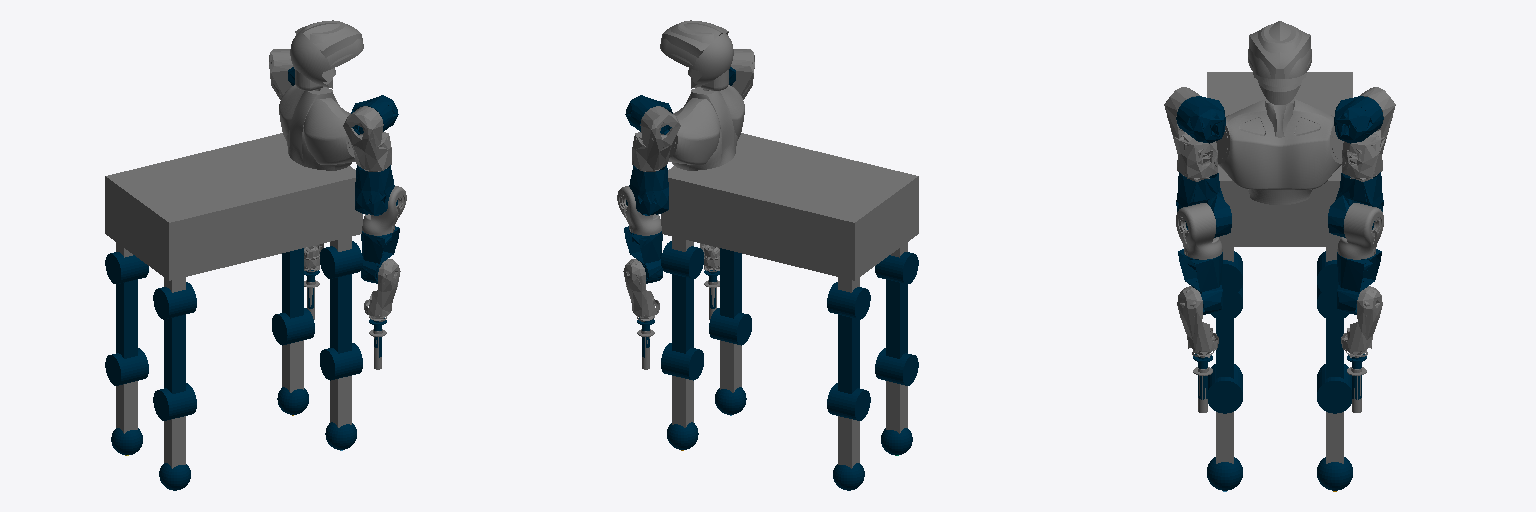
--- What the picture shows (computed from the rendered views, not written in the file) ---
Views: 3 orthographic renders of the robot side by side, from view 1: azimuth 30°, elevation 25°; view 2: azimuth 150°, elevation 25°; view 3: azimuth 270°, elevation 25°.
Model centauro with 36 links and 35 joints (27 revolute, 7 fixed, 1 floating), rooted at world, posed all joints at 0.
Links seen in each view (by area): view 1: pelvis, torso_2, knee_3, knee_4, knee_2, knee_1, hip2_3, hip2_2, hip2_4, arm2_2, arm2_3, hip2_1 (+5 smaller); view 2: pelvis, torso_2, knee_4, knee_3, knee_1, knee_2, hip2_4, hip2_1, hip2_3, arm1_2, arm1_3, hip2_2 (+5 smaller); view 3: torso_2, pelvis, knee_1, knee_2, arm1_2, arm2_2, hip2_1, hip2_2, arm1_4, arm2_4, arm1_1, arm2_1 (+6 smaller).
Link boxes in pixels (x1,y1,x2,y2): pelvis: [105, 133, 362, 280]; torso_2: [279, 20, 363, 170]; knee_3: [153, 383, 196, 490]; knee_4: [105, 348, 148, 454]; knee_2: [320, 343, 362, 449]; knee_1: [272, 308, 314, 414]; hip2_3: [153, 282, 196, 393]; hip2_2: [320, 241, 362, 353]; hip2_4: [105, 252, 148, 358]; arm2_2: [343, 106, 391, 171]; arm2_3: [355, 165, 397, 215]; hip2_1: [282, 248, 303, 318]; pelvis: [661, 133, 918, 280]; torso_2: [660, 20, 744, 170]; knee_4: [827, 383, 870, 490]; knee_3: [875, 348, 918, 454]; knee_1: [661, 343, 703, 449]; knee_2: [709, 308, 751, 414]; hip2_4: [827, 282, 870, 393]; hip2_1: [661, 241, 703, 353]; hip2_3: [875, 252, 918, 358]; arm1_2: [632, 106, 680, 171]; arm1_3: [626, 165, 668, 215]; hip2_2: [720, 248, 741, 318]; torso_2: [1216, 21, 1343, 204]; pelvis: [1207, 72, 1352, 246]; knee_1: [1317, 367, 1352, 490]; knee_2: [1207, 367, 1242, 490]; arm1_2: [1342, 87, 1395, 181]; arm2_2: [1164, 87, 1217, 181]; hip2_1: [1317, 251, 1343, 378]; hip2_2: [1216, 251, 1242, 378]; arm1_4: [1337, 203, 1383, 259]; arm2_4: [1176, 203, 1222, 259]; arm1_1: [1334, 96, 1383, 143]; arm2_1: [1176, 96, 1225, 143].
Size in the robot's own frame: 0.8353 by 0.6319 by 1.4 metres.
17 mesh visuals loaded from 9 distinct referenced files (9 binary STL).

robot.urdf — centauro:
<?xml version="1.0" ?>
<!-- =================================================================================== -->
<!-- |    This document was autogenerated by xacro from centauro.urdf.xacro            | -->
<!-- |    EDITING THIS FILE BY HAND IS NOT RECOMMENDED                                 | -->
<!-- =================================================================================== -->
<robot name="centauro" xmlns:xacro="http://www.ros.org/wiki/xacro">
  <!-- /constants -->
  <!-- Here all arguments from launch file are evaluated to the final xacro poropeties.
     Also all the parameter dependencies are resolved-->
  <material name="grey">
    <color rgba="0.5 0.5 0.5 1"/>
  </material>
  <material name="dark_grey">
    <color rgba="0.3 0.3 0.3 1"/>
  </material>
  <material name="blue">
    <color rgba="0.0 0.2 0.3 1"/>
  </material>
  <material name="red">
    <color rgba="0.5 0.1 0.2 1"/>
  </material>
  <material name="black">
    <color rgba="0.0 0.0 0.0 1"/>
  </material>
  <!-- Here all arguments from launch file are evaluated to the final xacro poropeties.
     Also all the parameter dependencies are resolved-->
  <!-- load proper collision model -->
  <!-- load proper collision model -->
  <!-- Here all arguments from launch file are evaluated to the final xacro poropeties.
     Also all the parameter dependencies are resolved-->
  <!-- load proper collision model -->
  <!-- load proper collision model -->
  <!-- /macro legs -->
  <!-- /macro arms -->
  <!-- /other files -->
  <!-- reference -->
  <link name="world"/>
  <link name="pelvis">
    <inertial>
      <origin xyz="-0.0704 0.0 -0.0416"/>
      <mass value="25.0"/>
      <inertia ixx="0.242311" ixy="0.0" ixz="0.0" iyy="1.338707" iyz="0.0" izz="1.369479"/>
    </inertial>
    <visual>
      <origin rpy="0.0 0.0 0.0" xyz="0 0 0"/>
      <geometry>
        <box size="0.70 0.40 0.20"/>
      </geometry>
      <material name="grey"/>
    </visual>
    <collision>
      <origin rpy="0.0 0.0 0.0" xyz="0 0 0"/>
      <geometry>
        <box size="0.70 0.40 0.20"/>
      </geometry>
      <material name="grey"/>
    </collision>
  </link>
  <joint name="reference" type="floating">
    <origin xyz="0.0 0.0 0.85"/>
    <parent link="world"/>
    <child link="pelvis"/>
  </joint>
  <!-- /reference  -->
  <!-- torso links -->
  <link name="torso_2">
    <inertial>
      <origin xyz="0.0047281261 0.00038307386 0.14972892"/>
      <mass value="4.5494226"/>
      <!-- mass  7: torso_1 (2) + torso_2 (5), head un_modelled -->
      <inertia ixx="0.063643392" ixy="8.939e-05" ixz="-0.00086873" iyy="0.02680235" iyz="-4.657e-05" izz="0.04743015"/>
    </inertial>
    <visual>
      <origin rpy="0.0 0.0 0.0" xyz="0.0 0 0.0"/>
      <geometry>
        <mesh filename="./centauro_urdf/meshes/link1.stl" scale="0.001 0.001 0.001"/>
      </geometry>
      <material name="grey"/>
    </visual>
    <collision>
      <origin rpy="0.0 0.0 0.0" xyz="0.0 0 0.0"/>
      <geometry>
        <mesh filename="./centauro_urdf/meshes/link1.stl" scale="0.001 0.001 0.001"/>
      </geometry>
      <material name="grey"/>
    </collision>
  </link>
  <link name="imu_link">
    <inertial>
      <mass value="0.0"/>
      <!-- mass  7: torso_1 (2) + torso_2 (5), head un_modelled -->
      <inertia ixx="0.0" ixy="0.0" ixz="0.0" iyy="0.0" iyz="0.0" izz="0.0"/>
    </inertial>
  </link>
  <!-- /torso links -->
  <!-- torso joints -->
  <joint name="torso_yaw" type="revolute">
    <parent link="pelvis"/>
    <origin xyz="0.3 0.0 0.1"/>
    <child link="torso_2"/>
    <axis xyz="0 0 1"/>
    <limit effort="147" lower="-2.618" upper="2.618" velocity="5.7"/>
    <!-- TODO -->
  </joint>
  <joint name="imu_joint" type="fixed">
    <parent link="pelvis"/>
    <origin xyz="-0.0704 0.0 -0.0416"/>
    <child link="imu_link"/>
  </joint>
  <!-- /torso joints -->
  <transmission name="t_torso_yaw">
    <type> transmission_interface/SimpleTransmission</type>
    <joint name="torso_yaw">
      <hardwareInterface>EffortJointInterface</hardwareInterface>
    </joint>
    <actuator name="motor_torso_yaw">
      <hardwareInterface>EffortJointInterface</hardwareInterface>
      <machanicalReduction>1</machanicalReduction>
    </actuator>
    <robotNamespace>/centauro</robotNamespace>
  </transmission>
  <!-- /torso actuators -->
  <!-- /torso -->
  <!-- LINKS -->
  <!-- shoulder yaw-roll-->
  <link name="arm1_1">
    <inertial>
      <origin xyz="-0.0031005886 0.040324584 0.007451937"/>
      <mass value="1.5583338"/>
      <inertia ixx="0.0032318636" ixy="4.24587e-05" ixz="4.91626e-05" iyy="0.00275718" iyz="-0.0002387056" izz="0.004275047"/>
    </inertial>
    <visual>
      <origin rpy="0.0 0.0 0.0" xyz="0.0 0.0 0.0"/>
      <geometry>
        <mesh filename="./centauro_urdf/meshes/link2.stl" scale="0.001 -0.001 0.001"/>
      </geometry>
      <material name="blue"/>
    </visual>
    <collision>
      <origin rpy="0.0 0.0 0.0" xyz="0.0 0.0 0.0"/>
      <geometry>
        <mesh filename="./centauro_urdf/meshes/link2.stl" scale="0.001 -0.001 0.001"/>
      </geometry>
      <material name="blue"/>
    </collision>
  </link>
  <!-- shoulder yaw-roll-->
  <!-- shoulder roll-pitch-->
  <link name="arm1_2">
    <inertial>
      <origin xyz="0.05105435 0.00011109 -0.07643596"/>
      <mass value="1.515061"/>
      <inertia ixx="0.01029558" ixy="2.846e-05" ixz="0.0036567" iyy="0.01178018" iyz="2.088e-05" izz="0.00386123"/>
    </inertial>
    <visual>
      <origin rpy="0.0 0.0 0.0" xyz="0.0 0.0 0.0"/>
      <geometry>
        <mesh filename="./centauro_urdf/meshes/link3.stl" scale="0.001 -0.001 0.001"/>
      </geometry>
      <material name="grey"/>
    </visual>
    <collision>
      <origin rpy="0.0 0.0 0.0" xyz="0.0 0.0 0.0"/>
      <geometry>
        <mesh filename="./centauro_urdf/meshes/link3.stl" scale="0.001 -0.001 0.001"/>
      </geometry>
      <material name="grey"/>
    </collision>
  </link>
  <!-- shoulder roll-pitch-->
  <!-- shoulder-elbow -->
  <link name="arm1_3">
    <inertial>
      <origin xyz="0.01207624 0.00322013 -0.03427312"/>
      <mass value="1.5088101"/>
      <inertia ixx="0.00469819" ixy="-0.00026547" ixz="0.00077706" iyy="0.00501755" iyz="0.00029679" izz="0.00310954"/>
    </inertial>
    <visual>
      <origin rpy="0.0 0.0 0.0" xyz="0.0 0.0 0.0"/>
      <geometry>
        <mesh filename="./centauro_urdf/meshes/link4.stl" scale="0.001 -0.001 0.001"/>
      </geometry>
      <material name="blue"/>
    </visual>
    <collision>
      <origin rpy="0.0 0.0 0.0" xyz="0.0 0.0 0.0"/>
      <geometry>
        <mesh filename="./centauro_urdf/meshes/link4.stl" scale="0.001 -0.001 0.001"/>
      </geometry>
      <material name="blue"/>
    </collision>
  </link>
  <!-- /shoulder-elbow -->
  <!-- elbow yaw-pitch -->
  <link name="arm1_4">
    <inertial>
      <origin xyz="0.010147552 -0.029928537 -0.032528288"/>
      <mass value="0.96297329"/>
      <inertia ixx="0.0026493567" ixy="5.1632e-06" ixz="0.0001292309" iyy="0.0023470955" iyz="-0.0007895755" izz="0.0012213063"/>
    </inertial>
    <visual>
      <origin rpy="0.0 0.0 0.0" xyz="0.0 0.0 0.0"/>
      <geometry>
        <mesh filename="./centauro_urdf/meshes/link5.stl" scale="0.001 -0.001 0.001"/>
      </geometry>
      <material name="grey"/>
    </visual>
    <collision>
      <origin rpy="0.0 0.0 0.0" xyz="0.0 0.0 0.0"/>
      <geometry>
        <mesh filename="./centauro_urdf/meshes/link5.stl" scale="0.001 -0.001 0.001"/>
      </geometry>
      <material name="grey"/>
    </collision>
  </link>
  <!-- /elbow yaw-pitch -->
  <!-- elbow-wrist -->
  <link name="arm1_5">
    <inertial>
      <origin xyz="-0.0001574443 0.0041320907 -0.10756614"/>
      <mass value="1.4703698"/>
      <inertia ixx="0.0064160453" ixy="1.96382e-05" ixz="2.49912e-05" iyy="0.0062016367" iyz="-0.0001987903" izz="0.0017091658"/>
    </inertial>
    <visual>
      <origin rpy="0.0 0.0 0.0" xyz="0.0 0.0 0.0"/>
      <geometry>
        <mesh filename="./centauro_urdf/meshes/link6.stl" scale="0.001 -0.001 0.001"/>
      </geometry>
      <material name="blue"/>
    </visual>
    <collision>
      <origin rpy="0.0 0.0 0.0" xyz="0.0 0.0 0.0"/>
      <geometry>
        <mesh filename="./centauro_urdf/meshes/link6.stl" scale="0.001 -0.001 0.001"/>
      </geometry>
      <material name="blue"/>
    </collision>
  </link>
  <!-- /elbow-wrist -->
  <!-- wrist yaw-pitch -->
  <link name="arm1_6">
    <inertial>
      <origin xyz="3.23645e-05 -0.035947237 -0.080878061"/>
      <mass value="0.94693868"/>
      <inertia ixx="0.0036896582" ixy="2.63667e-05" ixz="1.4005e-06" iyy="0.0034146283" iyz="-0.0008268103" izz="0.0010790183"/>
    </inertial>
    <visual>
      <origin rpy="0.0 0.0 0.0" xyz="0.0 0.0 0.0"/>
      <geometry>
        <mesh filename="./centauro_urdf/meshes/link7.stl" scale="0.001 -0.001 0.001"/>
      </geometry>
      <material name="grey"/>
    </visual>
    <collision>
      <origin rpy="0.0 0.0 0.0" xyz="0.0 0.0 0.0"/>
      <geometry>
        <mesh filename="./centauro_urdf/meshes/link7.stl" scale="0.001 -0.001 0.001"/>
      </geometry>
      <material name="grey"/>
    </collision>
  </link>
  <!-- /wrist yaw-pitch -->
  <link name="arm1_7">
    <inertial>
      <origin xyz="2.46596e-05 -0.0001467705 -0.0052993013"/>
      <mass value="0.55981036"/>
      <inertia ixx="0.0004360175" ixy="1.397e-07" ixz="-1.382e-07" iyy="0.0004299166" iyz="-1.4752e-06" izz="0.0004522224"/>
    </inertial>
    <visual>
      <origin rpy="0.0 0.0 0.0" xyz="0.0 0.0 0.0"/>
      <geometry>
        <mesh filename="./centauro_urdf/meshes/link8.stl" scale="0.001 -0.001 0.001"/>
      </geometry>
      <material name="blue"/>
    </visual>
    <collision>
      <origin rpy="0.0 0.0 0.0" xyz="0.0 0.0 0.0"/>
      <geometry>
        <mesh filename="./centauro_urdf/meshes/link8.stl" scale="0.001 -0.001 0.001"/>
      </geometry>
      <material name="blue"/>
    </collision>
  </link>
  <!-- /LINKS -->
  <!-- JOINTS -->
  <!-- shoulder yaw -->
  <joint name="j_arm1_1" type="revolute">
    <parent link="torso_2"/>
    <child link="arm1_1"/>
    <origin rpy="0.0 0.0 -0.523602668986" xyz="0.04576 0.169137 0.190626"/>
    <axis xyz="0 0.984807753012 0.173648177667"/>
    <limit effort="147" lower="-3.403" upper="1.658" velocity="5.7"/>
  </joint>
  <!-- /shoulder yaw -->
  <!-- shoulder roll -->
  <joint name="j_arm1_2" type="revolute">
    <parent link="arm1_1"/>
    <child link="arm1_2"/>
    <origin xyz="-0.09115 0.06106 0.010766"/>
    <axis xyz="-1 0 0"/>
    <limit effort="147" lower="-3.49" upper="0" velocity="5.7"/>
  </joint>
  <!-- /shoulder roll -->
  <!-- shoulder pitch-->
  <joint name="j_arm1_3" type="revolute">
    <parent link="arm1_2"/>
    <child link="arm1_3"/>
    <origin xyz="0.09115 0.0 -0.21915"/>
    <axis xyz="0 0 -1"/>
    <limit effort="147" lower="-2.618" upper="2.618" velocity="8.2"/>
  </joint>
  <!-- /shoulder pitch -->
  <!-- elbow yaw -->
  <joint name="j_arm1_4" type="revolute">
    <parent link="arm1_3"/>
    <child link="arm1_4"/>
    <origin xyz="0.04 0.05615 -0.074"/>
    <axis xyz="0 1 0"/>
    <limit effort="147" lower="-2.530" upper="0.349" velocity="8.2"/>
  </joint>
  <!-- /elbow yaw -->
  <!-- elbow pitch-->
  <joint name="j_arm1_5" type="revolute">
    <parent link="arm1_4"/>
    <child link="arm1_5"/>
    <origin xyz="-0.015 -0.05615 -0.061"/>
    <axis xyz="0 0 -1"/>
    <limit effort="55" lower="-2.618" upper="2.618" velocity="11.6"/>
  </joint>
  <!-- /elbow pitch-->
  <!-- wrist yaw-->
  <joint name="j_arm1_6" type="revolute">
    <parent link="arm1_5"/>
    <child link="arm1_6"/>
    <origin xyz="0.0 0.049 -0.18"/>
    <axis xyz="0 1 0"/>
    <limit effort="55" lower="-1.570" upper="1.570" velocity="11.6"/>
  </joint>
  <!-- /wrist yaw-->
  <!-- wrist pitch-->
  <joint name="j_arm1_7" type="revolute">
    <parent link="arm1_6"/>
    <child link="arm1_7"/>
    <origin xyz="0.0 -0.049 -0.169"/>
    <axis xyz="0 0 -1"/>
    <limit effort="27" lower="-2.618" upper="2.618" velocity="20.3"/>
  </joint>
  <!-- wrist pitch-->
  <!-- force-troque sensor -->
  <transmission name="t_j_arm1_1">
    <type> transmission_interface/SimpleTransmission</type>
    <joint name="j_arm1_1">
      <hardwareInterface>EffortJointInterface</hardwareInterface>
    </joint>
    <actuator name="motor_j_arm1_1">
      <hardwareInterface>EffortJointInterface</hardwareInterface>
      <machanicalReduction>1</machanicalReduction>
    </actuator>
    <robotNamespace>/centauro</robotNamespace>
  </transmission>
  <transmission name="t_j_arm1_2">
    <type> transmission_interface/SimpleTransmission</type>
    <joint name="j_arm1_2">
      <hardwareInterface>EffortJointInterface</hardwareInterface>
    </joint>
    <actuator name="motor_j_arm1_2">
      <hardwareInterface>EffortJointInterface</hardwareInterface>
      <machanicalReduction>1</machanicalReduction>
    </actuator>
    <robotNamespace>/centauro</robotNamespace>
  </transmission>
  <transmission name="t_j_arm1_3">
    <type> transmission_interface/SimpleTransmission</type>
    <joint name="j_arm1_3">
      <hardwareInterface>EffortJointInterface</hardwareInterface>
    </joint>
    <actuator name="motor_j_arm1_3">
      <hardwareInterface>EffortJointInterface</hardwareInterface>
      <machanicalReduction>1</machanicalReduction>
    </actuator>
    <robotNamespace>/centauro</robotNamespace>
  </transmission>
  <transmission name="t_j_arm1_4">
    <type> transmission_interface/SimpleTransmission</type>
    <joint name="j_arm1_4">
      <hardwareInterface>EffortJointInterface</hardwareInterface>
    </joint>
    <actuator name="motor_j_arm1_4">
      <hardwareInterface>EffortJointInterface</hardwareInterface>
      <machanicalReduction>1</machanicalReduction>
    </actuator>
    <robotNamespace>/centauro</robotNamespace>
  </transmission>
  <transmission name="t_j_arm1_5">
    <type> transmission_interface/SimpleTransmission</type>
    <joint name="j_arm1_5">
      <hardwareInterface>EffortJointInterface</hardwareInterface>
    </joint>
    <actuator name="motor_j_arm1_5">
      <hardwareInterface>EffortJointInterface</hardwareInterface>
      <machanicalReduction>1</machanicalReduction>
    </actuator>
    <robotNamespace>/centauro</robotNamespace>
  </transmission>
  <transmission name="t_j_arm1_6">
    <type> transmission_interface/SimpleTransmission</type>
    <joint name="j_arm1_6">
      <hardwareInterface>EffortJointInterface</hardwareInterface>
    </joint>
    <actuator name="motor_j_arm1_6">
      <hardwareInterface>EffortJointInterface</hardwareInterface>
      <machanicalReduction>1</machanicalReduction>
    </actuator>
    <robotNamespace>/centauro</robotNamespace>
  </transmission>
  <transmission name="t_j_arm1_7">
    <type> transmission_interface/SimpleTransmission</type>
    <joint name="j_arm1_7">
      <hardwareInterface>EffortJointInterface</hardwareInterface>
    </joint>
    <actuator name="motor_j_arm1_7">
      <hardwareInterface>EffortJointInterface</hardwareInterface>
      <machanicalReduction>1</machanicalReduction>
    </actuator>
    <robotNamespace>/centauro</robotNamespace>
  </transmission>
  <!-- /actuators -->
  <!-- end-effector -->
  <!-- links -->
  <link name="arm1_8">
    <inertial>
      <origin rpy="0 0 0" xyz="0.001 0.0 0.006"/>
      <mass value="0.15"/>
      <inertia ixx="0.0002" ixy="0.0" ixz="0.0" iyy="0.0002" iyz="0.0" izz="1e-05"/>
      <!--          <inertia ixx="0.003"  ixy="0"  ixz="0" iyy="0.0025" iyz="0" izz="0.00016900" /> -->
    </inertial>
    <visual>
      <origin rpy="0.0 0.0 0.0" xyz="0.0 0.0 0.0"/>
      <geometry>
        <mesh filename="./centauro_urdf/meshes/link9.stl" scale="0.001 -0.001 -0.001"/>
      </geometry>
      <material name="grey"/>
    </visual>
    <collision>
      <origin rpy="0.0 0.0 0.0" xyz="0.0 0.0 0.0"/>
      <geometry>
        <mesh filename="./centauro_urdf/meshes/link9.stl" scale="0.001 -0.001 -0.001"/>
      </geometry>
    </collision>
  </link>
  <!-- /links -->
  <!-- joints -->
  <joint name="j_arm1_8" type="fixed">
    <parent link="arm1_7"/>
    <child link="arm1_8"/>
    <origin rpy="0.0 3.14159265359 -1.5707963268" xyz="0.0 0.0 -0.0405"/>
    <axis xyz="1 0 0"/>
    <limit effort="0" lower="0.0" upper="0" velocity="0"/>
  </joint>
   --&gt;

  <!-- /joints -->
  <!-- /end-effector -->
  <!-- LINKS -->
  <!-- shoulder yaw-roll-->
  <link name="arm2_1">
    <inertial>
      <origin xyz="-0.0031005886 -0.040324584 0.007451937"/>
      <mass value="1.5583338"/>
      <inertia ixx="0.0032318636" ixy="-4.24587e-05" ixz="4.91626e-05" iyy="0.00275718" iyz="0.0002387056" izz="0.004275047"/>
    </inertial>
    <visual>
      <origin rpy="0.0 0.0 0.0" xyz="0.0 0.0 0.0"/>
      <geometry>
        <mesh filename="./centauro_urdf/meshes/link2.stl" scale="0.001 0.001 0.001"/>
      </geometry>
      <material name="blue"/>
    </visual>
    <collision>
      <origin rpy="0.0 0.0 0.0" xyz="0.0 0.0 0.0"/>
      <geometry>
        <mesh filename="./centauro_urdf/meshes/link2.stl" scale="0.001 0.001 0.001"/>
      </geometry>
      <material name="blue"/>
    </collision>
  </link>
  <!-- shoulder yaw-roll-->
  <!-- shoulder roll-pitch-->
  <link name="arm2_2">
    <inertial>
      <origin xyz="0.05105435 -0.00011109 -0.07643596"/>
      <mass value="1.515061"/>
      <inertia ixx="0.01029558" ixy="-2.846e-05" ixz="0.0036567" iyy="0.01178018" iyz="-2.088e-05" izz="0.00386123"/>
    </inertial>
    <visual>
      <origin rpy="0.0 0.0 0.0" xyz="0.0 0.0 0.0"/>
      <geometry>
        <mesh filename="./centauro_urdf/meshes/link3.stl" scale="0.001 0.001 0.001"/>
      </geometry>
      <material name="grey"/>
    </visual>
    <collision>
      <origin rpy="0.0 0.0 0.0" xyz="0.0 0.0 0.0"/>
      <geometry>
        <mesh filename="./centauro_urdf/meshes/link3.stl" scale="0.001 0.001 0.001"/>
      </geometry>
      <material name="grey"/>
    </collision>
  </link>
  <!-- shoulder roll-pitch-->
  <!-- shoulder-elbow -->
  <link name="arm2_3">
    <inertial>
      <origin xyz="0.01207624 -0.00322013 -0.03427312"/>
      <mass value="1.5088101"/>
      <inertia ixx="0.00469819" ixy="0.00026547" ixz="0.00077706" iyy="0.00501755" iyz="-0.00029679" izz="0.00310954"/>
    </inertial>
    <visual>
      <origin rpy="0.0 0.0 0.0" xyz="0.0 0.0 0.0"/>
      <geometry>
        <mesh filename="./centauro_urdf/meshes/link4.stl" scale="0.001 0.001 0.001"/>
      </geometry>
      <material name="blue"/>
    </visual>
    <collision>
      <origin rpy="0.0 0.0 0.0" xyz="0.0 0.0 0.0"/>
      <geometry>
        <mesh filename="./centauro_urdf/meshes/link4.stl" scale="0.001 0.001 0.001"/>
      </geometry>
      <material name="blue"/>
    </collision>
  </link>
  <!-- /shoulder-elbow -->
  <!-- elbow yaw-pitch -->
  <link name="arm2_4">
    <inertial>
      <origin xyz="0.010147552 0.029928537 -0.032528288"/>
      <mass value="0.96297329"/>
      <inertia ixx="0.0026493567" ixy="-5.1632e-06" ixz="0.0001292309" iyy="0.0023470955" iyz="0.0007895755" izz="0.0012213063"/>
    </inertial>
    <visual>
      <origin rpy="0.0 0.0 0.0" xyz="0.0 0.0 0.0"/>
      <geometry>
        <mesh filename="./centauro_urdf/meshes/link5.stl" scale="0.001 0.001 0.001"/>
      </geometry>
      <material name="grey"/>
    </visual>
    <collision>
      <origin rpy="0.0 0.0 0.0" xyz="0.0 0.0 0.0"/>
      <geometry>
        <mesh filename="./centauro_urdf/meshes/link5.stl" scale="0.001 0.001 0.001"/>
      </geometry>
      <material name="grey"/>
    </collision>
  </link>
  <!-- /elbow yaw-pitch -->
  <!-- elbow-wrist -->
  <link name="arm2_5">
    <inertial>
      <origin xyz="-0.0001574443 -0.0041320907 -0.10756614"/>
      <mass value="1.4703698"/>
      <inertia ixx="0.0064160453" ixy="-1.96382e-05" ixz="2.49912e-05" iyy="0.0062016367" iyz="0.0001987903" izz="0.0017091658"/>
    </inertial>
    <visual>
      <origin rpy="0.0 0.0 0.0" xyz="0.0 0.0 0.0"/>
      <geometry>
        <mesh filename="./centauro_urdf/meshes/link6.stl" scale="0.001 0.001 0.001"/>
      </geometry>
      <material name="blue"/>
    </visual>
    <collision>
      <origin rpy="0.0 0.0 0.0" xyz="0.0 0.0 0.0"/>
      <geometry>
        <mesh filename="./centauro_urdf/meshes/link6.stl" scale="0.001 0.001 0.001"/>
      </geometry>
      <material name="blue"/>
    </collision>
  </link>
  <!-- /elbow-wrist -->
  <!-- wrist yaw-pitch -->
  <link name="arm2_6">
    <inertial>
      <origin xyz="3.23645e-05 0.035947237 -0.080878061"/>
      <mass value="0.94693868"/>
      <inertia ixx="0.0036896582" ixy="-2.63667e-05" ixz="1.4005e-06" iyy="0.0034146283" iyz="0.0008268103" izz="0.0010790183"/>
    </inertial>
    <visual>
      <origin rpy="0.0 0.0 0.0" xyz="0.0 0.0 0.0"/>
      <geometry>
        <mesh filename="./centauro_urdf/meshes/link7.stl" scale="0.001 0.001 0.001"/>
      </geometry>
      <material name="grey"/>
    </visual>
    <collision>
      <origin rpy="0.0 0.0 0.0" xyz="0.0 0.0 0.0"/>
      <geometry>
        <mesh filename="./centauro_urdf/meshes/link7.stl" scale="0.001 0.001 0.001"/>
      </geometry>
      <material name="grey"/>
    </collision>
  </link>
  <!-- /wrist yaw-pitch -->
  <link name="arm2_7">
    <inertial>
      <origin xyz="2.46596e-05 0.0001467705 -0.0052993013"/>
      <mass value="0.55981036"/>
      <inertia ixx="0.0004360175" ixy="-1.397e-07" ixz="-1.382e-07" iyy="0.0004299166" iyz="1.4752e-06" izz="0.0004522224"/>
    </inertial>
    <visual>
      <origin rpy="0.0 0.0 0.0" xyz="0.0 0.0 0.0"/>
      <geometry>
        <mesh filename="./centauro_urdf/meshes/link8.stl" scale="0.001 0.001 0.001"/>
      </geometry>
      <material name="blue"/>
    </visual>
    <collision>
      <origin rpy="0.0 0.0 0.0" xyz="0.0 0.0 0.0"/>
      <geometry>
        <mesh filename="./centauro_urdf/meshes/link8.stl" scale="0.001 0.001 0.001"/>
      </geometry>
      <material name="blue"/>
    </collision>
  </link>
  <!-- /LINKS -->
  <!-- JOINTS -->
  <!-- shoulder yaw -->
  <joint name="j_arm2_1" type="revolute">
    <parent link="torso_2"/>
    <child link="arm2_1"/>
    <origin rpy="0.0 0.0 0.523602668986" xyz="0.04576 -0.169137 0.190626"/>
    <axis xyz="0 -0.984807753012 0.173648177667"/>
    <limit effort="147" lower="-1.658" upper="3.403" velocity="5.7"/>
  </joint>
  <!-- /shoulder yaw -->
  <!-- shoulder roll -->
  <joint name="j_arm2_2" type="revolute">
    <parent link="arm2_1"/>
    <child link="arm2_2"/>
    <origin xyz="-0.09115 -0.06106 0.010766"/>
    <axis xyz="-1 0 0"/>
    <limit effort="147" lower="0" upper="3.49" velocity="5.7"/>
  </joint>
  <!-- /shoulder roll -->
  <!-- shoulder pitch-->
  <joint name="j_arm2_3" type="revolute">
    <parent link="arm2_2"/>
    <child link="arm2_3"/>
    <origin xyz="0.09115 0.0 -0.21915"/>
    <axis xyz="0 0 -1"/>
    <limit effort="147" lower="-2.618" upper="2.618" velocity="8.2"/>
  </joint>
  <!-- /shoulder pitch -->
  <!-- elbow yaw -->
  <joint name="j_arm2_4" type="revolute">
    <parent link="arm2_3"/>
    <child link="arm2_4"/>
    <origin xyz="0.04 -0.05615 -0.074"/>
    <axis xyz="0 -1 0"/>
    <limit effort="147" lower="-0.349" upper="2.530" velocity="8.2"/>
  </joint>
  <!-- /elbow yaw -->
  <!-- elbow pitch-->
  <joint name="j_arm2_5" type="revolute">
    <parent link="arm2_4"/>
    <child link="arm2_5"/>
    <origin xyz="-0.015 0.05615 -0.061"/>
    <axis xyz="0 0 -1"/>
    <limit effort="55" lower="-2.618" upper="2.618" velocity="11.6"/>
  </joint>
  <!-- /elbow pitch-->
  <!-- wrist yaw-->
  <joint name="j_arm2_6" type="revolute">
    <parent link="arm2_5"/>
    <child link="arm2_6"/>
    <origin xyz="0.0 -0.049 -0.18"/>
    <axis xyz="0 -1 0"/>
    <limit effort="55" lower="-1.570" upper="1.570" velocity="11.6"/>
  </joint>
  <!-- /wrist yaw-->
  <!-- wrist pitch-->
  <joint name="j_arm2_7" type="revolute">
    <parent link="arm2_6"/>
    <child link="arm2_7"/>
    <origin xyz="0.0 0.049 -0.169"/>
    <axis xyz="0 0 -1"/>
    <limit effort="27" lower="-2.618" upper="2.618" velocity="20.3"/>
  </joint>
  <!-- wrist pitch-->
  <!-- force-troque sensor -->
  <transmission name="t_j_arm2_1">
    <type> transmission_interface/SimpleTransmission</type>
    <joint name="j_arm2_1">
      <hardwareInterface>EffortJointInterface</hardwareInterface>
    </joint>
    <actuator name="motor_j_arm2_1">
      <hardwareInterface>EffortJointInterface</hardwareInterface>
      <machanicalReduction>1</machanicalReduction>
    </actuator>
    <robotNamespace>/centauro</robotNamespace>
  </transmission>
  <transmission name="t_j_arm2_2">
    <type> transmission_interface/SimpleTransmission</type>
    <joint name="j_arm2_2">
      <hardwareInterface>EffortJointInterface</hardwareInterface>
    </joint>
    <actuator name="motor_j_arm2_2">
      <hardwareInterface>EffortJointInterface</hardwareInterface>
      <machanicalReduction>1</machanicalReduction>
    </actuator>
    <robotNamespace>/centauro</robotNamespace>
  </transmission>
  <transmission name="t_j_arm2_3">
    <type> transmission_interface/SimpleTransmission</type>
    <joint name="j_arm2_3">
      <hardwareInterface>EffortJointInterface</hardwareInterface>
    </joint>
    <actuator name="motor_j_arm2_3">
      <hardwareInterface>EffortJointInterface</hardwareInterface>
      <machanicalReduction>1</machanicalReduction>
    </actuator>
    <robotNamespace>/centauro</robotNamespace>
  </transmission>
  <transmission name="t_j_arm2_4">
    <type> transmission_interface/SimpleTransmission</type>
    <joint name="j_arm2_4">
      <hardwareInterface>EffortJointInterface</hardwareInterface>
    </joint>
    <actuator name="motor_j_arm2_4">
      <hardwareInterface>EffortJointInterface</hardwareInterface>
      <machanicalReduction>1</machanicalReduction>
    </actuator>
    <robotNamespace>/centauro</robotNamespace>
  </transmission>
  <transmission name="t_j_arm2_5">
    <type> transmission_interface/SimpleTransmission</type>
    <joint name="j_arm2_5">
      <hardwareInterface>EffortJointInterface</hardwareInterface>
    </joint>
    <actuator name="motor_j_arm2_5">
      <hardwareInterface>EffortJointInterface</hardwareInterface>
      <machanicalReduction>1</machanicalReduction>
    </actuator>
    <robotNamespace>/centauro</robotNamespace>
  </transmission>
  <transmission name="t_j_arm2_6">
    <type> transmission_interface/SimpleTransmission</type>
    <joint name="j_arm2_6">
      <hardwareInterface>EffortJointInterface</hardwareInterface>
    </joint>
    <actuator name="motor_j_arm2_6">
      <hardwareInterface>EffortJointInterface</hardwareInterface>
      <machanicalReduction>1</machanicalReduction>
    </actuator>
    <robotNamespace>/centauro</robotNamespace>
  </transmission>
  <transmission name="t_j_arm2_7">
    <type> transmission_interface/SimpleTransmission</type>
    <joint name="j_arm2_7">
      <hardwareInterface>EffortJointInterface</hardwareInterface>
    </joint>
    <actuator name="motor_j_arm2_7">
      <hardwareInterface>EffortJointInterface</hardwareInterface>
      <machanicalReduction>1</machanicalReduction>
    </actuator>
    <robotNamespace>/centauro</robotNamespace>
  </transmission>
  <!-- /actuators -->
  <!-- end-effector -->
  <!-- links -->
  <link name="ft_arm2">
    <inertial>
      <origin rpy="0 0 0" xyz="0.001 0.0 0.006"/>
      <mass value="0.15"/>
      <inertia ixx="0.0002" ixy="0.0" ixz="0.0" iyy="0.0002" iyz="0.0" izz="1e-05"/>
      <!--          <inertia ixx="0.003"  ixy="0"  ixz="0" iyy="0.0025" iyz="0" izz="0.00016900" /> -->
    </inertial>
    <visual>
      <origin rpy="0.0 0.0 0.0" xyz="0.0 0.0 0.0"/>
      <geometry>
        <mesh filename="./centauro_urdf/meshes/link9.stl" scale="0.001 0.001 -0.001"/>
      </geometry>
      <material name="grey"/>
    </visual>
    <collision>
      <origin rpy="0.0 0.0 0.0" xyz="0.0 0.0 0.0"/>
      <geometry>
        <mesh filename="./centauro_urdf/meshes/link9.stl" scale="0.001 0.001 -0.001"/>
      </geometry>
    </collision>
  </link>
  <!-- /links -->
  <!-- joints -->
  <joint name="j_ft_arm2" type="fixed">
    <parent link="arm2_7"/>
    <child link="ft_arm2"/>
    <origin rpy="0.0 3.14159265359 -1.5707963268" xyz="0.0 0.0 -0.0405"/>
    <axis xyz="1 0 0"/>
    <limit effort="0" lower="0.0" upper="0" velocity="0"/>
  </joint>
   --&gt;

  <!-- /joints -->
  <!-- /end-effector -->
  <!-- /arms -->
  <link name="hip1_1">
    <inertial>
      <origin xyz="0.0 0.0 -0.175"/>
      <!-- TODO -->
      <mass value="2.0"/>
      <!-- org: 2 -->
      <inertia ixx="0.006237" ixy="0.0" ixz="0.0" iyy="0.005925" iyz="-0.0" izz="0.002488"/>
      <!-- <inertia ixx="0.01" ixy="0.01" ixz="0.01" iyy="0.01" iyz="0.01" izz="0.01"/> -->
    </inertial>
    <visual>
      <origin xyz="0 0 -0.1"/>
      <geometry>
        <box size="0.05 0.05 0.2"/>
        <!-- OK: from hip-yaw to pelvis (0.1) + from plevis to hip-pitch (0.1)-->
      </geometry>
      <material name="grey"/>
    </visual>
    <visual>
      <origin rpy="0 0 0" xyz="0 0 0"/>
      <geometry>
        <cylinder length="0.1" radius="0.05"/>
      </geometry>
      <material name="grey"/>
    </visual>
    <collision>
      <origin xyz="0 0 -0.1"/>
      <geometry>
        <box size="0.05 0.05 0.15"/>
        <!-- OK: from hip-yaw to pelvis (0.1) + from plevis to hip-pitch (0.1)-->
      </geometry>
      <material name="grey"/>
    </collision>
    <!-- <collision>
		<origin xyz="0 0 0" rpy="0 0 0" />
		<geometry>
			<cylinder length="${motors_length}" radius="${motors_radius}"/>
		</geometry>
		<material name="grey"/>
	</collision> -->
  </link>
  <link name="hip2_1">
    <inertial>
      <origin xyz="0.0 0.0 -0.233333"/>
      <mass value="4.5"/>
      <!-- org: 4.5 -->
      <inertia ixx="0.037113" ixy="0.0" ixz="0.0" iyy="0.0368" iyz="-0.0" izz="0.003988"/>
      <!-- <inertia ixx="0.01" ixy="0.01" ixz="0.01" iyy="0.01" iyz="0.01" izz="0.01"/> -->
    </inertial>
    <visual>
      <origin xyz="0 0 -0.175"/>
      <geometry>
        <box size="0.05 0.05 0.35"/>
        <!-- OK -->
      </geometry>
      <material name="blue"/>
    </visual>
    <visual>
      <origin rpy="1.5707963268 0 0" xyz="0 0 0"/>
      <geometry>
        <cylinder length="0.1" radius="0.05"/>
      </geometry>
      <material name="blue"/>
    </visual>
    <collision>
      <origin xyz="0 0 -0.175"/>
      <geometry>
        <box size="0.05 0.05 0.3"/>
        <!-- OK -->
      </geometry>
      <material name="blue"/>
    </collision>
    <!-- <collision>
		<origin xyz="0 0 0" rpy="${PI/2} 0 0" />
		<geometry>
			<cylinder length="${motors_length}" radius="${motors_radius}"/>
		</geometry>
		<material name="blue"/>
	</collision> -->
  </link>
  <link name="knee_1">
    <inertial>
      <origin xyz="0.0 0.0 -0.15"/>
      <!-- TODO -->
      <mass value="3.5"/>
      <!-- org: 3.5, foot un modeled-->
      <inertia ixx="0.004433" ixy="0.0" ixz="0.0" iyy="0.004433" iyz="0.0" izz="0.0021"/>
      <!--	<inertia ixx="0.01" ixy="0.01" ixz="0.01" iyy="0.01" iyz="0.01" izz="0.01"/>  -->
    </inertial>
    <visual>
      <origin xyz="0 0 -0.125"/>
      <geometry>
        <box size="0.05 0.05 0.25"/>
        <!-- OK: foot un modeled-->
      </geometry>
      <material name="grey"/>
    </visual>
    <visual>
      <origin rpy="1.5707963268 0 0" xyz="0 0 0"/>
      <geometry>
        <cylinder length="0.1" radius="0.05"/>
      </geometry>
      <material name="blue"/>
    </visual>
    <visual>
      <origin xyz="0 0 -0.25"/>
      <geometry>
        <sphere radius="0.05"/>
      </geometry>
      <material name="blue"/>
    </visual>
    <collision>
      <origin xyz="0 0 -0.125"/>
      <geometry>
        <box size="0.05 0.05 0.2"/>
        <!-- OK: foot un modeled-->
      </geometry>
      <material name="grey"/>
    </collision>
    <!--	<collision>
		<origin xyz="0 0 0" rpy="${PI/2} 0 0" />
		<geometry>
			<cylinder length="${motors_length}" radius="${motors_radius}"/>
		</geometry>
		<material name="blue"/>
	</collision> -->
    <collision>
      <origin xyz="0 0 -0.25"/>
      <geometry>
        <sphere radius="0.05"/>
      </geometry>
      <material name="blue"/>
    </collision>
  </link>
  <!-- ftsensor -->
  <!--<link name="ft_foot_${leg_num}">
  <inertial>
    <mass value="0.001"/>
    <origin xyz="0 0 0"/>
    <inertia ixx="1.0E-6" ixy="0" ixz="0" iyy="1.0E-6" iyz="0" izz="1.0E-6"/>
  </inertial>
  <visual>
      <origin rpy="0 0 0" xyz="0 0 0"/>
      <geometry>
        <box size="0.01 0.01 0.01"/>
      </geometry>
  </visual>
</link>-->
  <!-- /wheels -->
  <joint name="hip_yaw_1" type="revolute">
    <parent link="pelvis"/>
    <child link="hip1_1"/>
    <origin rpy="0 0 1.5707963268" xyz="0.3 0.15 0"/>
    <axis xyz="0 0 -1"/>
    <limit effort="147" lower="-2.09" upper="2.09" velocity="6.5"/>
    <!-- TODO -->
  </joint>
  <joint name="hip_pitch_1" type="revolute">
    <parent link="hip1_1"/>
    <child link="hip2_1"/>
    <origin xyz="0.0 0.0 -0.2"/>
    <axis xyz="0 -1 0"/>
    <limit effort="330" lower="-3.14" upper="3.14" velocity="6.5"/>
    <!-- TODO -->
  </joint>
  <joint name="knee_pitch_1" type="revolute">
    <parent link="hip2_1"/>
    <child link="knee_1"/>
    <origin xyz="0.0 0.0 -0.35"/>
    <axis xyz="0 -1 0"/>
    <limit effort="330" lower="-3.14" upper="3.14" velocity="6.5"/>
    <!-- TODO -->
  </joint>
  <transmission name="t_hip_yaw_1">
    <type> transmission_interface/SimpleTransmission</type>
    <joint name="hip_yaw_1">
      <hardwareInterface>EffortJointInterface</hardwareInterface>
    </joint>
    <actuator name="motor_hip_yaw_1">
      <hardwareInterface>EffortJointInterface</hardwareInterface>
      <machanicalReduction>1</machanicalReduction>
    </actuator>
    <robotNamespace>/centauro</robotNamespace>
  </transmission>
  <transmission name="t_hip_pitch_1">
    <type> transmission_interface/SimpleTransmission</type>
    <joint name="hip_pitch_1">
      <hardwareInterface>EffortJointInterface</hardwareInterface>
    </joint>
    <actuator name="motor_hip_pitch_1">
      <hardwareInterface>EffortJointInterface</hardwareInterface>
      <machanicalReduction>1</machanicalReduction>
    </actuator>
    <robotNamespace>/centauro</robotNamespace>
  </transmission>
  <transmission name="t_knee_pitch_1">
    <type> transmission_interface/SimpleTransmission</type>
    <joint name="knee_pitch_1">
      <hardwareInterface>EffortJointInterface</hardwareInterface>
    </joint>
    <actuator name="motor_knee_pitch_1">
      <hardwareInterface>EffortJointInterface</hardwareInterface>
      <machanicalReduction>1</machanicalReduction>
    </actuator>
    <robotNamespace>/centauro</robotNamespace>
  </transmission>
  <!-- /actuators -->
  <link name="hip1_2">
    <inertial>
      <origin xyz="0.0 0.0 -0.175"/>
      <!-- TODO -->
      <mass value="2.0"/>
      <!-- org: 2 -->
      <inertia ixx="0.006237" ixy="0.0" ixz="0.0" iyy="0.005925" iyz="-0.0" izz="0.002488"/>
      <!-- <inertia ixx="0.01" ixy="0.01" ixz="0.01" iyy="0.01" iyz="0.01" izz="0.01"/> -->
    </inertial>
    <visual>
      <origin xyz="0 0 -0.1"/>
      <geometry>
        <box size="0.05 0.05 0.2"/>
        <!-- OK: from hip-yaw to pelvis (0.1) + from plevis to hip-pitch (0.1)-->
      </geometry>
      <material name="grey"/>
    </visual>
    <visual>
      <origin rpy="0 0 0" xyz="0 0 0"/>
      <geometry>
        <cylinder length="0.1" radius="0.05"/>
      </geometry>
      <material name="grey"/>
    </visual>
    <collision>
      <origin xyz="0 0 -0.1"/>
      <geometry>
        <box size="0.05 0.05 0.15"/>
        <!-- OK: from hip-yaw to pelvis (0.1) + from plevis to hip-pitch (0.1)-->
      </geometry>
      <material name="grey"/>
    </collision>
    <!-- <collision>
		<origin xyz="0 0 0" rpy="0 0 0" />
		<geometry>
			<cylinder length="${motors_length}" radius="${motors_radius}"/>
		</geometry>
		<material name="grey"/>
	</collision> -->
  </link>
  <link name="hip2_2">
    <inertial>
      <origin xyz="0.0 0.0 -0.233333"/>
      <mass value="4.5"/>
      <!-- org: 4.5 -->
      <inertia ixx="0.037113" ixy="0.0" ixz="0.0" iyy="0.0368" iyz="-0.0" izz="0.003988"/>
      <!-- <inertia ixx="0.01" ixy="0.01" ixz="0.01" iyy="0.01" iyz="0.01" izz="0.01"/> -->
    </inertial>
    <visual>
      <origin xyz="0 0 -0.175"/>
      <geometry>
        <box size="0.05 0.05 0.35"/>
        <!-- OK -->
      </geometry>
      <material name="blue"/>
    </visual>
    <visual>
      <origin rpy="1.5707963268 0 0" xyz="0 0 0"/>
      <geometry>
        <cylinder length="0.1" radius="0.05"/>
      </geometry>
      <material name="blue"/>
    </visual>
    <collision>
      <origin xyz="0 0 -0.175"/>
      <geometry>
        <box size="0.05 0.05 0.3"/>
        <!-- OK -->
      </geometry>
      <material name="blue"/>
    </collision>
    <!-- <collision>
		<origin xyz="0 0 0" rpy="${PI/2} 0 0" />
		<geometry>
			<cylinder length="${motors_length}" radius="${motors_radius}"/>
		</geometry>
		<material name="blue"/>
	</collision> -->
  </link>
  <link name="knee_2">
    <inertial>
      <origin xyz="0.0 0.0 -0.15"/>
      <!-- TODO -->
      <mass value="3.5"/>
      <!-- org: 3.5, foot un modeled-->
      <inertia ixx="0.004433" ixy="0.0" ixz="0.0" iyy="0.004433" iyz="0.0" izz="0.0021"/>
      <!--	<inertia ixx="0.01" ixy="0.01" ixz="0.01" iyy="0.01" iyz="0.01" izz="0.01"/>  -->
    </inertial>
    <visual>
      <origin xyz="0 0 -0.125"/>
      <geometry>
        <box size="0.05 0.05 0.25"/>
        <!-- OK: foot un modeled-->
      </geometry>
      <material name="grey"/>
    </visual>
    <visual>
      <origin rpy="1.5707963268 0 0" xyz="0 0 0"/>
      <geometry>
        <cylinder length="0.1" radius="0.05"/>
      </geometry>
      <material name="blue"/>
    </visual>
    <visual>
      <origin xyz="0 0 -0.25"/>
      <geometry>
        <sphere radius="0.05"/>
      </geometry>
      <material name="blue"/>
    </visual>
    <collision>
      <origin xyz="0 0 -0.125"/>
      <geometry>
        <box size="0.05 0.05 0.2"/>
        <!-- OK: foot un modeled-->
      </geometry>
      <material name="grey"/>
    </collision>
    <!--	<collision>
		<origin xyz="0 0 0" rpy="${PI/2} 0 0" />
		<geometry>
			<cylinder length="${motors_length}" radius="${motors_radius}"/>
		</geometry>
		<material name="blue"/>
	</collision> -->
    <collision>
      <origin xyz="0 0 -0.25"/>
      <geometry>
        <sphere radius="0.05"/>
      </geometry>
      <material name="blue"/>
    </collision>
  </link>
  <!-- ftsensor -->
  <!--<link name="ft_foot_${leg_num}">
  <inertial>
    <mass value="0.001"/>
    <origin xyz="0 0 0"/>
    <inertia ixx="1.0E-6" ixy="0" ixz="0" iyy="1.0E-6" iyz="0" izz="1.0E-6"/>
  </inertial>
  <visual>
      <origin rpy="0 0 0" xyz="0 0 0"/>
      <geometry>
        <box size="0.01 0.01 0.01"/>
      </geometry>
  </visual>
</link>-->
  <!-- /wheels -->
  <joint name="hip_yaw_2" type="revolute">
    <parent link="pelvis"/>
    <child link="hip1_2"/>
    <origin rpy="0 0 1.5707963268" xyz="0.3 -0.15 0"/>
    <axis xyz="0 0 1"/>
    <limit effort="147" lower="-2.09" upper="2.09" velocity="6.5"/>
    <!-- TODO -->
  </joint>
  <joint name="hip_pitch_2" type="revolute">
    <parent link="hip1_2"/>
    <child link="hip2_2"/>
    <origin xyz="0.0 0.0 -0.2"/>
    <axis xyz="0 1 0"/>
    <limit effort="330" lower="-3.14" upper="3.14" velocity="6.5"/>
    <!-- TODO -->
  </joint>
  <joint name="knee_pitch_2" type="revolute">
    <parent link="hip2_2"/>
    <child link="knee_2"/>
    <origin xyz="0.0 0.0 -0.35"/>
    <axis xyz="0 1 0"/>
    <limit effort="330" lower="-3.14" upper="3.14" velocity="6.5"/>
    <!-- TODO -->
  </joint>
  <transmission name="t_hip_yaw_2">
    <type> transmission_interface/SimpleTransmission</type>
    <joint name="hip_yaw_2">
      <hardwareInterface>EffortJointInterface</hardwareInterface>
    </joint>
    <actuator name="motor_hip_yaw_2">
      <hardwareInterface>EffortJointInterface</hardwareInterface>
      <machanicalReduction>1</machanicalReduction>
    </actuator>
    <robotNamespace>/centauro</robotNamespace>
  </transmission>
  <transmission name="t_hip_pitch_2">
    <type> transmission_interface/SimpleTransmission</type>
    <joint name="hip_pitch_2">
      <hardwareInterface>EffortJointInterface</hardwareInterface>
    </joint>
    <actuator name="motor_hip_pitch_2">
      <hardwareInterface>EffortJointInterface</hardwareInterface>
      <machanicalReduction>1</machanicalReduction>
    </actuator>
    <robotNamespace>/centauro</robotNamespace>
  </transmission>
  <transmission name="t_knee_pitch_2">
    <type> transmission_interface/SimpleTransmission</type>
    <joint name="knee_pitch_2">
      <hardwareInterface>EffortJointInterface</hardwareInterface>
    </joint>
    <actuator name="motor_knee_pitch_2">
      <hardwareInterface>EffortJointInterface</hardwareInterface>
      <machanicalReduction>1</machanicalReduction>
    </actuator>
    <robotNamespace>/centauro</robotNamespace>
  </transmission>
  <!-- /actuators -->
  <link name="hip1_3">
    <inertial>
      <origin xyz="0.0 0.0 -0.175"/>
      <!-- TODO -->
      <mass value="2.0"/>
      <!-- org: 2 -->
      <inertia ixx="0.006237" ixy="0.0" ixz="0.0" iyy="0.005925" iyz="-0.0" izz="0.002488"/>
      <!-- <inertia ixx="0.01" ixy="0.01" ixz="0.01" iyy="0.01" iyz="0.01" izz="0.01"/> -->
    </inertial>
    <visual>
      <origin xyz="0 0 -0.1"/>
      <geometry>
        <box size="0.05 0.05 0.2"/>
        <!-- OK: from hip-yaw to pelvis (0.1) + from plevis to hip-pitch (0.1)-->
      </geometry>
      <material name="grey"/>
    </visual>
    <visual>
      <origin rpy="0 0 0" xyz="0 0 0"/>
      <geometry>
        <cylinder length="0.1" radius="0.05"/>
      </geometry>
      <material name="grey"/>
    </visual>
    <collision>
      <origin xyz="0 0 -0.1"/>
      <geometry>
        <box size="0.05 0.05 0.15"/>
        <!-- OK: from hip-yaw to pelvis (0.1) + from plevis to hip-pitch (0.1)-->
      </geometry>
      <material name="grey"/>
    </collision>
    <!-- <collision>
		<origin xyz="0 0 0" rpy="0 0 0" />
		<geometry>
			<cylinder length="${motors_length}" radius="${motors_radius}"/>
		</geometry>
		<material name="grey"/>
	</collision> -->
  </link>
  <link name="hip2_3">
    <inertial>
      <origin xyz="0.0 0.0 -0.233333"/>
      <mass value="4.5"/>
      <!-- org: 4.5 -->
      <inertia ixx="0.037113" ixy="0.0" ixz="0.0" iyy="0.0368" iyz="-0.0" izz="0.003988"/>
      <!-- <inertia ixx="0.01" ixy="0.01" ixz="0.01" iyy="0.01" iyz="0.01" izz="0.01"/> -->
    </inertial>
    <visual>
      <origin xyz="0 0 -0.175"/>
      <geometry>
        <box size="0.05 0.05 0.35"/>
        <!-- OK -->
      </geometry>
      <material name="blue"/>
    </visual>
    <visual>
      <origin rpy="1.5707963268 0 0" xyz="0 0 0"/>
      <geometry>
        <cylinder length="0.1" radius="0.05"/>
      </geometry>
      <material name="blue"/>
    </visual>
    <collision>
      <origin xyz="0 0 -0.175"/>
      <geometry>
        <box size="0.05 0.05 0.3"/>
        <!-- OK -->
      </geometry>
      <material name="blue"/>
    </collision>
    <!-- <collision>
		<origin xyz="0 0 0" rpy="${PI/2} 0 0" />
		<geometry>
			<cylinder length="${motors_length}" radius="${motors_radius}"/>
		</geometry>
		<material name="blue"/>
	</collision> -->
  </link>
  <link name="knee_3">
    <inertial>
      <origin xyz="0.0 0.0 -0.15"/>
      <!-- TODO -->
      <mass value="3.5"/>
      <!-- org: 3.5, foot un modeled-->
      <inertia ixx="0.004433" ixy="0.0" ixz="0.0" iyy="0.004433" iyz="0.0" izz="0.0021"/>
      <!--	<inertia ixx="0.01" ixy="0.01" ixz="0.01" iyy="0.01" iyz="0.01" izz="0.01"/>  -->
    </inertial>
    <visual>
      <origin xyz="0 0 -0.125"/>
      <geometry>
        <box size="0.05 0.05 0.25"/>
        <!-- OK: foot un modeled-->
      </geometry>
      <material name="grey"/>
    </visual>
    <visual>
      <origin rpy="1.5707963268 0 0" xyz="0 0 0"/>
      <geometry>
        <cylinder length="0.1" radius="0.05"/>
      </geometry>
      <material name="blue"/>
    </visual>
    <visual>
      <origin xyz="0 0 -0.25"/>
      <geometry>
        <sphere radius="0.05"/>
      </geometry>
      <material name="blue"/>
    </visual>
    <collision>
      <origin xyz="0 0 -0.125"/>
      <geometry>
        <box size="0.05 0.05 0.2"/>
        <!-- OK: foot un modeled-->
      </geometry>
      <material name="grey"/>
    </collision>
    <!--	<collision>
		<origin xyz="0 0 0" rpy="${PI/2} 0 0" />
		<geometry>
			<cylinder length="${motors_length}" radius="${motors_radius}"/>
		</geometry>
		<material name="blue"/>
	</collision> -->
    <collision>
      <origin xyz="0 0 -0.25"/>
      <geometry>
        <sphere radius="0.05"/>
      </geometry>
      <material name="blue"/>
    </collision>
  </link>
  <!-- ftsensor -->
  <!--<link name="ft_foot_${leg_num}">
  <inertial>
    <mass value="0.001"/>
    <origin xyz="0 0 0"/>
    <inertia ixx="1.0E-6" ixy="0" ixz="0" iyy="1.0E-6" iyz="0" izz="1.0E-6"/>
  </inertial>
  <visual>
      <origin rpy="0 0 0" xyz="0 0 0"/>
      <geometry>
        <box size="0.01 0.01 0.01"/>
      </geometry>
  </visual>
</link>-->
  <!-- /wheels -->
  <joint name="hip_yaw_3" type="revolute">
    <parent link="pelvis"/>
    <child link="hip1_3"/>
    <origin rpy="0 0 1.5707963268" xyz="-0.3 -0.15 0"/>
    <axis xyz="0 0 1"/>
    <limit effort="147" lower="-2.09" upper="2.09" velocity="6.5"/>
    <!-- TODO -->
  </joint>
  <joint name="hip_pitch_3" type="revolute">
    <parent link="hip1_3"/>
    <child link="hip2_3"/>
    <origin xyz="0.0 0.0 -0.2"/>
    <axis xyz="0 1 0"/>
    <limit effort="330" lower="-3.14" upper="3.14" velocity="6.5"/>
    <!-- TODO -->
  </joint>
  <joint name="knee_pitch_3" type="revolute">
    <parent link="hip2_3"/>
    <child link="knee_3"/>
    <origin xyz="0.0 0.0 -0.35"/>
    <axis xyz="0 1 0"/>
    <limit effort="330" lower="-3.14" upper="3.14" velocity="6.5"/>
    <!-- TODO -->
  </joint>
  <transmission name="t_hip_yaw_3">
    <type> transmission_interface/SimpleTransmission</type>
    <joint name="hip_yaw_3">
      <hardwareInterface>EffortJointInterface</hardwareInterface>
    </joint>
    <actuator name="motor_hip_yaw_3">
      <hardwareInterface>EffortJointInterface</hardwareInterface>
      <machanicalReduction>1</machanicalReduction>
    </actuator>
    <robotNamespace>/centauro</robotNamespace>
  </transmission>
  <transmission name="t_hip_pitch_3">
    <type> transmission_interface/SimpleTransmission</type>
    <joint name="hip_pitch_3">
      <hardwareInterface>EffortJointInterface</hardwareInterface>
    </joint>
    <actuator name="motor_hip_pitch_3">
      <hardwareInterface>EffortJointInterface</hardwareInterface>
      <machanicalReduction>1</machanicalReduction>
    </actuator>
    <robotNamespace>/centauro</robotNamespace>
  </transmission>
  <transmission name="t_knee_pitch_3">
    <type> transmission_interface/SimpleTransmission</type>
    <joint name="knee_pitch_3">
      <hardwareInterface>EffortJointInterface</hardwareInterface>
    </joint>
    <actuator name="motor_knee_pitch_3">
      <hardwareInterface>EffortJointInterface</hardwareInterface>
      <machanicalReduction>1</machanicalReduction>
    </actuator>
    <robotNamespace>/centauro</robotNamespace>
  </transmission>
  <!-- /actuators -->
  <link name="hip1_4">
    <inertial>
      <origin xyz="0.0 0.0 -0.175"/>
      <!-- TODO -->
      <mass value="2.0"/>
      <!-- org: 2 -->
      <inertia ixx="0.006237" ixy="0.0" ixz="0.0" iyy="0.005925" iyz="-0.0" izz="0.002488"/>
      <!-- <inertia ixx="0.01" ixy="0.01" ixz="0.01" iyy="0.01" iyz="0.01" izz="0.01"/> -->
    </inertial>
    <visual>
      <origin xyz="0 0 -0.1"/>
      <geometry>
        <box size="0.05 0.05 0.2"/>
        <!-- OK: from hip-yaw to pelvis (0.1) + from plevis to hip-pitch (0.1)-->
      </geometry>
      <material name="grey"/>
    </visual>
    <visual>
      <origin rpy="0 0 0" xyz="0 0 0"/>
      <geometry>
        <cylinder length="0.1" radius="0.05"/>
      </geometry>
      <material name="grey"/>
    </visual>
    <collision>
      <origin xyz="0 0 -0.1"/>
      <geometry>
        <box size="0.05 0.05 0.15"/>
        <!-- OK: from hip-yaw to pelvis (0.1) + from plevis to hip-pitch (0.1)-->
      </geometry>
      <material name="grey"/>
    </collision>
    <!-- <collision>
		<origin xyz="0 0 0" rpy="0 0 0" />
		<geometry>
			<cylinder length="${motors_length}" radius="${motors_radius}"/>
		</geometry>
		<material name="grey"/>
	</collision> -->
  </link>
  <link name="hip2_4">
    <inertial>
      <origin xyz="0.0 0.0 -0.233333"/>
      <mass value="4.5"/>
      <!-- org: 4.5 -->
      <inertia ixx="0.037113" ixy="0.0" ixz="0.0" iyy="0.0368" iyz="-0.0" izz="0.003988"/>
      <!-- <inertia ixx="0.01" ixy="0.01" ixz="0.01" iyy="0.01" iyz="0.01" izz="0.01"/> -->
    </inertial>
    <visual>
      <origin xyz="0 0 -0.175"/>
      <geometry>
        <box size="0.05 0.05 0.35"/>
        <!-- OK -->
      </geometry>
      <material name="blue"/>
    </visual>
    <visual>
      <origin rpy="1.5707963268 0 0" xyz="0 0 0"/>
      <geometry>
        <cylinder length="0.1" radius="0.05"/>
      </geometry>
      <material name="blue"/>
    </visual>
    <collision>
      <origin xyz="0 0 -0.175"/>
      <geometry>
        <box size="0.05 0.05 0.3"/>
        <!-- OK -->
      </geometry>
      <material name="blue"/>
    </collision>
    <!-- <collision>
		<origin xyz="0 0 0" rpy="${PI/2} 0 0" />
		<geometry>
			<cylinder length="${motors_length}" radius="${motors_radius}"/>
		</geometry>
		<material name="blue"/>
	</collision> -->
  </link>
  <link name="knee_4">
    <inertial>
      <origin xyz="0.0 0.0 -0.15"/>
      <!-- TODO -->
      <mass value="3.5"/>
      <!-- org: 3.5, foot un modeled-->
      <inertia ixx="0.004433" ixy="0.0" ixz="0.0" iyy="0.004433" iyz="0.0" izz="0.0021"/>
      <!--	<inertia ixx="0.01" ixy="0.01" ixz="0.01" iyy="0.01" iyz="0.01" izz="0.01"/>  -->
    </inertial>
    <visual>
      <origin xyz="0 0 -0.125"/>
      <geometry>
        <box size="0.05 0.05 0.25"/>
        <!-- OK: foot un modeled-->
      </geometry>
      <material name="grey"/>
    </visual>
    <visual>
      <origin rpy="1.5707963268 0 0" xyz="0 0 0"/>
      <geometry>
        <cylinder length="0.1" radius="0.05"/>
      </geometry>
      <material name="blue"/>
    </visual>
    <visual>
      <origin xyz="0 0 -0.25"/>
      <geometry>
        <sphere radius="0.05"/>
      </geometry>
      <material name="blue"/>
    </visual>
    <collision>
      <origin xyz="0 0 -0.125"/>
      <geometry>
        <box size="0.05 0.05 0.2"/>
        <!-- OK: foot un modeled-->
      </geometry>
      <material name="grey"/>
    </collision>
    <!--	<collision>
		<origin xyz="0 0 0" rpy="${PI/2} 0 0" />
		<geometry>
			<cylinder length="${motors_length}" radius="${motors_radius}"/>
		</geometry>
		<material name="blue"/>
	</collision> -->
    <collision>
      <origin xyz="0 0 -0.25"/>
      <geometry>
        <sphere radius="0.05"/>
      </geometry>
      <material name="blue"/>
    </collision>
  </link>
  <!-- ftsensor -->
  <!--<link name="ft_foot_${leg_num}">
  <inertial>
    <mass value="0.001"/>
    <origin xyz="0 0 0"/>
    <inertia ixx="1.0E-6" ixy="0" ixz="0" iyy="1.0E-6" iyz="0" izz="1.0E-6"/>
  </inertial>
  <visual>
      <origin rpy="0 0 0" xyz="0 0 0"/>
      <geometry>
        <box size="0.01 0.01 0.01"/>
      </geometry>
  </visual>
</link>-->
  <!-- /wheels -->
  <joint name="hip_yaw_4" type="revolute">
    <parent link="pelvis"/>
    <child link="hip1_4"/>
    <origin rpy="0 0 1.5707963268" xyz="-0.3 0.15 0"/>
    <axis xyz="0 0 -1"/>
    <limit effort="147" lower="-2.09" upper="2.09" velocity="6.5"/>
    <!-- TODO -->
  </joint>
  <joint name="hip_pitch_4" type="revolute">
    <parent link="hip1_4"/>
    <child link="hip2_4"/>
    <origin xyz="0.0 0.0 -0.2"/>
    <axis xyz="0 -1 0"/>
    <limit effort="330" lower="-3.14" upper="3.14" velocity="6.5"/>
    <!-- TODO -->
  </joint>
  <joint name="knee_pitch_4" type="revolute">
    <parent link="hip2_4"/>
    <child link="knee_4"/>
    <origin xyz="0.0 0.0 -0.35"/>
    <axis xyz="0 -1 0"/>
    <limit effort="330" lower="-3.14" upper="3.14" velocity="6.5"/>
    <!-- TODO -->
  </joint>
  <transmission name="t_hip_yaw_4">
    <type> transmission_interface/SimpleTransmission</type>
    <joint name="hip_yaw_4">
      <hardwareInterface>EffortJointInterface</hardwareInterface>
    </joint>
    <actuator name="motor_hip_yaw_4">
      <hardwareInterface>EffortJointInterface</hardwareInterface>
      <machanicalReduction>1</machanicalReduction>
    </actuator>
    <robotNamespace>/centauro</robotNamespace>
  </transmission>
  <transmission name="t_hip_pitch_4">
    <type> transmission_interface/SimpleTransmission</type>
    <joint name="hip_pitch_4">
      <hardwareInterface>EffortJointInterface</hardwareInterface>
    </joint>
    <actuator name="motor_hip_pitch_4">
      <hardwareInterface>EffortJointInterface</hardwareInterface>
      <machanicalReduction>1</machanicalReduction>
    </actuator>
    <robotNamespace>/centauro</robotNamespace>
  </transmission>
  <transmission name="t_knee_pitch_4">
    <type> transmission_interface/SimpleTransmission</type>
    <joint name="knee_pitch_4">
      <hardwareInterface>EffortJointInterface</hardwareInterface>
    </joint>
    <actuator name="motor_knee_pitch_4">
      <hardwareInterface>EffortJointInterface</hardwareInterface>
      <machanicalReduction>1</machanicalReduction>
    </actuator>
    <robotNamespace>/centauro</robotNamespace>
  </transmission>


    <joint name="ft_foot_1_joint" type="fixed">
    <parent link="knee_1"/>
    <child link="ft_foot_1"/>
    <origin rpy="0 0 0" xyz="0 0 -0.3"/>
  </joint>

  <link name="ft_foot_1">
    <inertial>
      <mass value="0.001"/>
      <origin xyz="0 0 0"/>
      <inertia ixx="1.0E-6" ixy="0" ixz="0" iyy="1.0E-6" iyz="0" izz="1.0E-6"/>
    </inertial>
    <visual>
      <origin rpy="0 0 0" xyz="0 0 0"/>
      <geometry>
        <box size="0.01 0.01 0.01"/>
      </geometry>
    </visual>
  </link>

  <joint name="ft_foot_2_joint" type="fixed">
    <parent link="knee_2"/>
    <child link="ft_foot_2"/>
    <origin rpy="0 0 0" xyz="0 0 -0.3"/>
  </joint>

  <link name="ft_foot_2">
    <inertial>
      <mass value="0.001"/>
      <origin xyz="0 0 0"/>
      <inertia ixx="1.0E-6" ixy="0" ixz="0" iyy="1.0E-6" iyz="0" izz="1.0E-6"/>
    </inertial>
    <visual>
      <origin rpy="0 0 0" xyz="0 0 0"/>
      <geometry>
        <box size="0.01 0.01 0.01"/>
      </geometry>
    </visual>
  </link>

  <joint name="ft_foot_3_joint" type="fixed">
    <parent link="knee_3"/>
    <child link="ft_foot_3"/>
    <origin rpy="0 0 0" xyz="0 0 -0.3"/>
  </joint>

  <link name="ft_foot_3">
    <inertial>
      <mass value="0.001"/>
      <origin xyz="0 0 0"/>
      <inertia ixx="1.0E-6" ixy="0" ixz="0" iyy="1.0E-6" iyz="0" izz="1.0E-6"/>
    </inertial>
    <visual>
      <origin rpy="0 0 0" xyz="0 0 0"/>
      <geometry>
        <box size="0.01 0.01 0.01"/>
      </geometry>
    </visual>
  </link>

  <joint name="ft_foot_4_joint" type="fixed">
    <parent link="knee_4"/>
    <child link="ft_foot_4"/>
    <origin rpy="0 0 0" xyz="0 0 -0.3"/>
  </joint>

  <link name="ft_foot_4">
    <inertial>
      <mass value="0.001"/>
      <origin xyz="0 0 0"/>
      <inertia ixx="1.0E-6" ixy="0" ixz="0" iyy="1.0E-6" iyz="0" izz="1.0E-6"/>
    </inertial>
    <visual>
      <origin rpy="0 0 0" xyz="0 0 0"/>
      <geometry>
        <box size="0.01 0.01 0.01"/>
      </geometry>
    </visual>
  </link>
  <!-- /actuators -->
  <!-- /legs -->
</robot>
